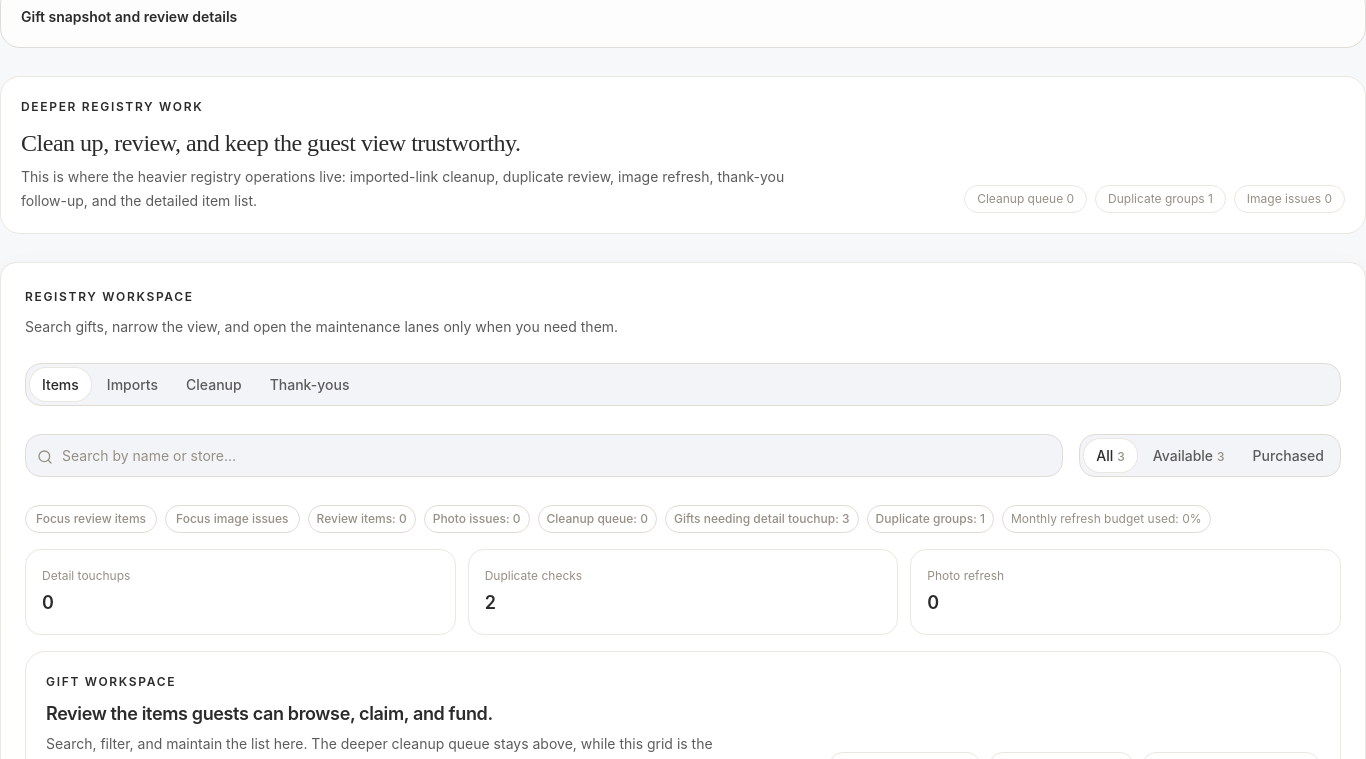
it: RegistryDashboardRouteContent › summarizes duplicate checks before listing merge groups
(page scrolled)
Click the button "Cleanup".
click(214, 384)  # box x1=174 y1=368 x2=254 y2=401
(page scrolled)
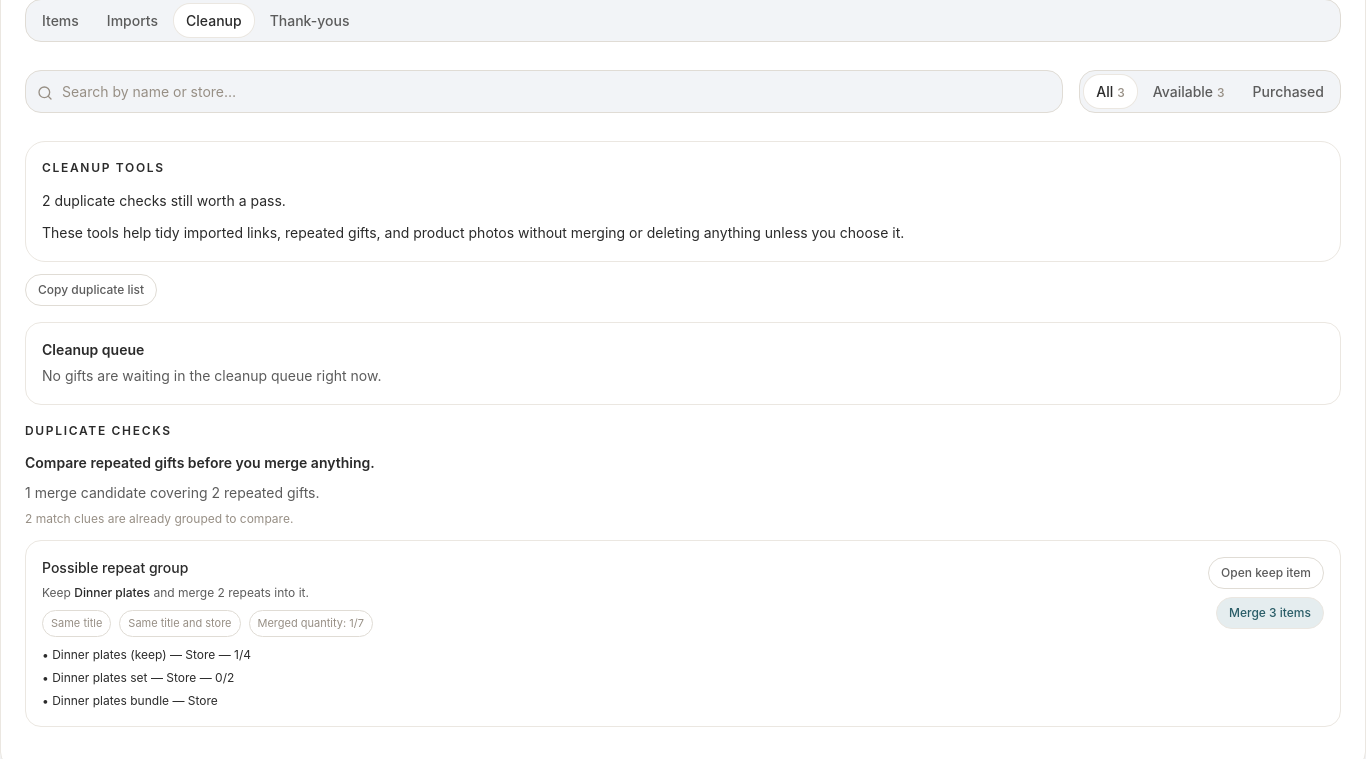
Expected: the text "1 merge candidate covering 2 repeated gifts." is shown, x1=25 y1=484 x2=320 y2=501
Expected: the text "2 match clues are already grouped to compare." is shown, x1=25 y1=510 x2=293 y2=526
Expected: the text "Possible repeat group" is shown, x1=42 y1=559 x2=188 y2=576
